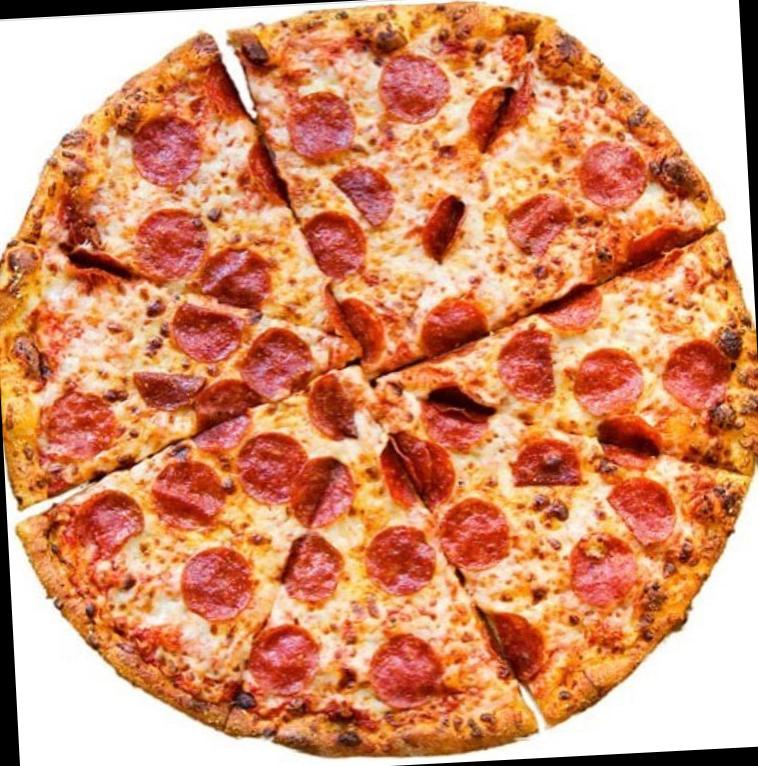Pepperoni: (383, 426, 466, 520), (179, 547, 266, 633), (276, 87, 372, 164), (579, 134, 666, 218), (370, 631, 448, 719), (134, 208, 216, 290), (148, 455, 230, 537), (134, 112, 212, 198), (572, 530, 645, 620), (40, 389, 129, 462), (566, 347, 652, 422), (272, 537, 358, 612), (474, 606, 546, 694), (420, 378, 504, 452), (659, 337, 737, 415), (608, 476, 686, 554), (442, 491, 513, 576), (378, 52, 457, 128), (290, 452, 366, 530), (242, 329, 316, 409), (246, 430, 314, 516), (498, 190, 581, 260), (191, 384, 265, 462), (252, 627, 324, 706), (506, 433, 596, 496), (200, 245, 283, 313), (492, 334, 563, 412), (171, 300, 247, 372), (304, 208, 374, 286), (332, 160, 405, 234), (371, 528, 442, 604), (335, 293, 396, 374), (76, 488, 146, 555), (420, 296, 492, 360), (466, 82, 526, 158), (600, 415, 670, 480), (628, 221, 699, 282), (128, 370, 215, 414), (310, 369, 361, 444), (540, 284, 612, 332), (424, 197, 472, 264)
Pizza: (0, 0, 758, 766)
